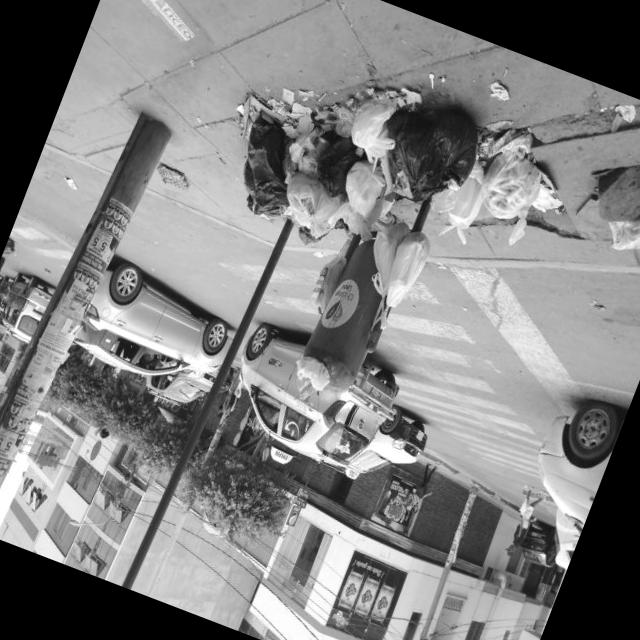high trash: (240, 88, 562, 312)
less trash: (597, 166, 640, 250), (157, 164, 188, 190)
